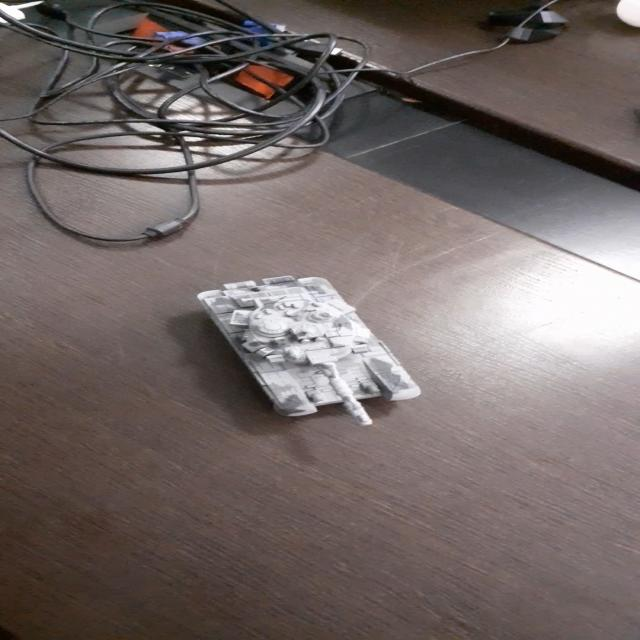tank: (200, 276, 421, 426)
